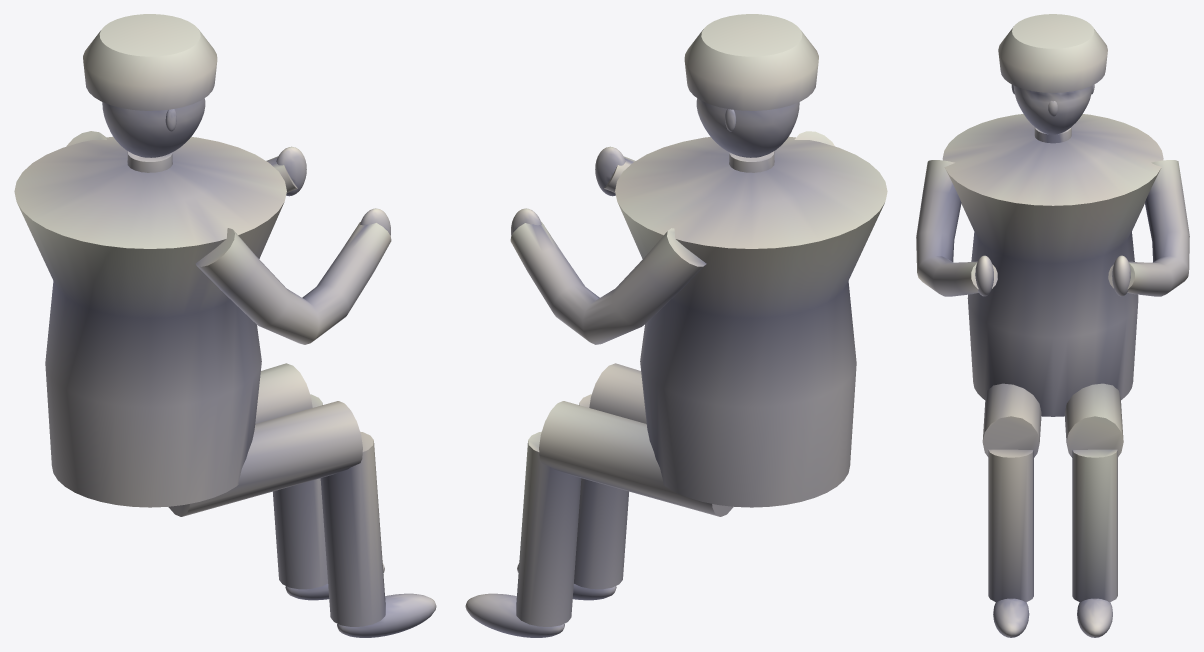
The model's file is bhima-driving.glb.
The picture shows the model from 3 angles, left to right: view 1: azimuth 30°, elevation 25°; view 2: azimuth 150°, elevation 25°; view 3: azimuth 270°, elevation 25°; orthographic projection. The views are drawn at different scales.
Visible parts, largest first — view 1: body; view 2: body; view 3: body.
Boxes of the visible parts, x1=… form: body: x1=14, y1=14, x2=436, y2=637; body: x1=465, y1=14, x2=887, y2=637; body: x1=916, y1=14, x2=1189, y2=637.
Bounding box in the file's own units: 0.93 × 1.5 × 0.7183.
